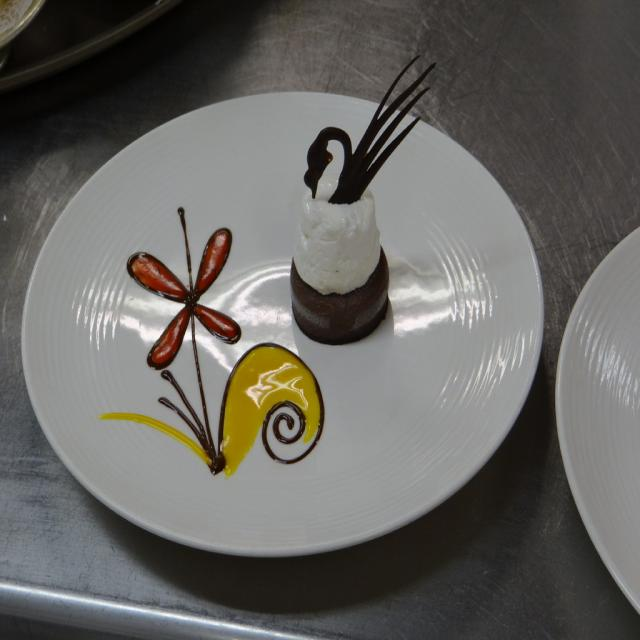non-organic waste: (23, 78, 538, 575)
